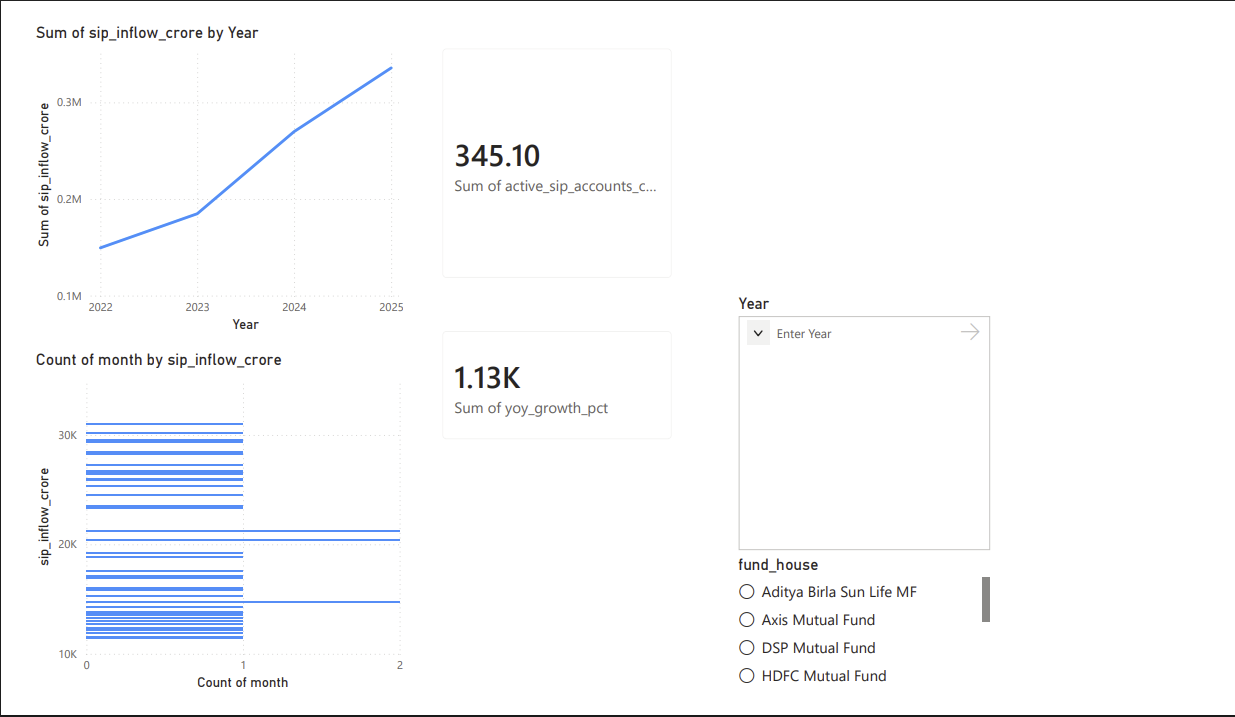

The dashboard page shown, as its layout file describes it:
{"tool":"powerbi","page":{"name":"SIP & Market Trends","canvas":[1280,720],"ordinal":3},"visuals":[{"type":"lineChart","fields":{"Category":["clean_sip_inflows.month.Variation.Date Hierarchy.Year","clean_sip_inflows.month.Variation.Date Hierarchy.Quarter","clean_sip_inflows.month.Variation.Date Hierarchy.Month","clean_sip_inflows.month.Variation.Date Hierarchy.Day"],"Y":["Sum(clean_sip_inflows.sip_inflow_crore)"]},"box":[10,0,404.3,335.7],"z":0},{"type":"barChart","fields":{"Y":["CountNonNull(clean_sip_inflows.month)"],"Category":["clean_sip_inflows.sip_inflow_crore"]},"box":[10,350,404.3,370],"z":1},{"type":"cardVisual","fields":{"Data":["Sum(clean_sip_inflows.yoy_growth_pct)"]},"box":[434.3,312.9,280,150],"z":2},{"type":"cardVisual","fields":{"Data":["Sum(clean_sip_inflows.active_sip_accounts_crore)"]},"box":[434.3,10,280,280],"z":3},{"type":"textSlicer","fields":{"Values":["clean_sip_inflows.month.Variation.Date Hierarchy.Year"]},"box":[764.3,290,280,280],"z":4},{"type":"listSlicer","fields":{"Values":["clean_aum.fund_house"]},"box":[764.3,570,280,150],"z":5}]}

Visuals, with their boxes on the page's 1280x720 design canvas (x1, y1, x2, y2). These are canvas units, not pixel positions in the 1235x717 screenshot, which may show the page scaled, cropped or inside an application window:
lineChart - clean_sip_inflows.month.Variation.Date Hierarchy.Year x clean_sip_inflows.month.Variation.Date Hierarchy.Quarter: [10,0,414,336]
barChart - CountNonNull(clean_sip_inflows.month) x clean_sip_inflows.sip_inflow_crore: [10,350,414,720]
cardVisual - Sum(clean_sip_inflows.yoy_growth_pct): [434,313,714,463]
cardVisual - Sum(clean_sip_inflows.active_sip_accounts_crore): [434,10,714,290]
textSlicer - clean_sip_inflows.month.Variation.Date Hierarchy.Year: [764,290,1044,570]
listSlicer - clean_aum.fund_house: [764,570,1044,720]
